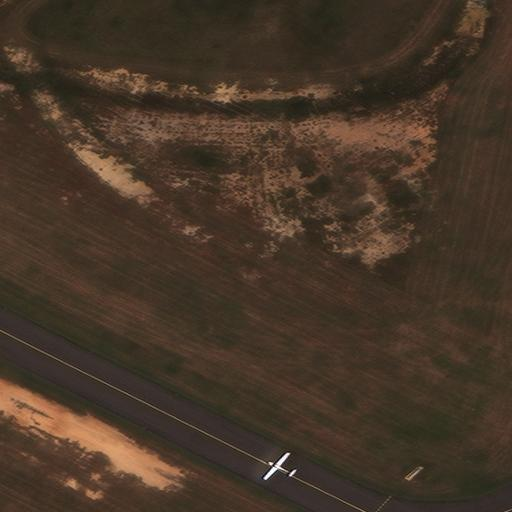Small Civil Transport: (262, 451, 294, 477)
